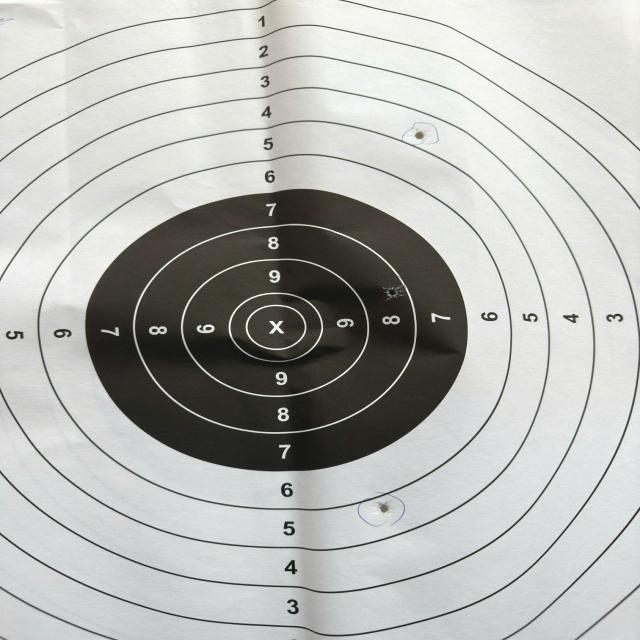bullet: (384, 287, 401, 299), (379, 503, 390, 513), (415, 131, 425, 139)
target: (0, 0, 638, 640)
